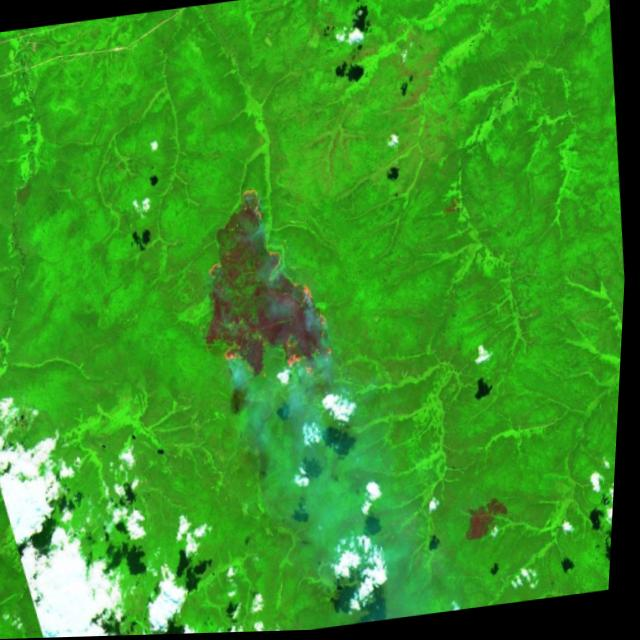fire: (184, 172, 355, 401)
